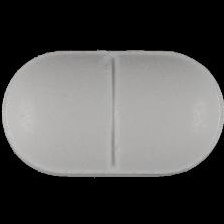68387-230: (0, 0, 224, 224)
